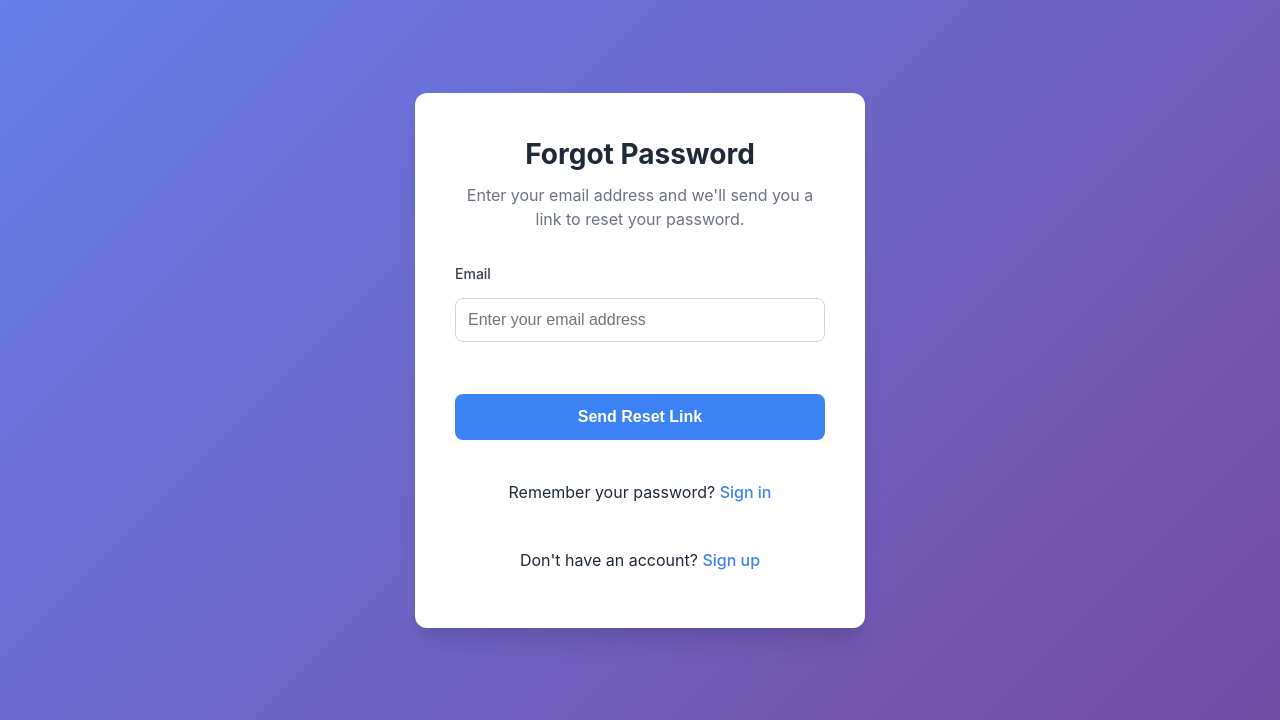
ForgotPassword Component › validates required email field
Click the button "Send Reset Link" at (640,416), box [455,394,825,440]
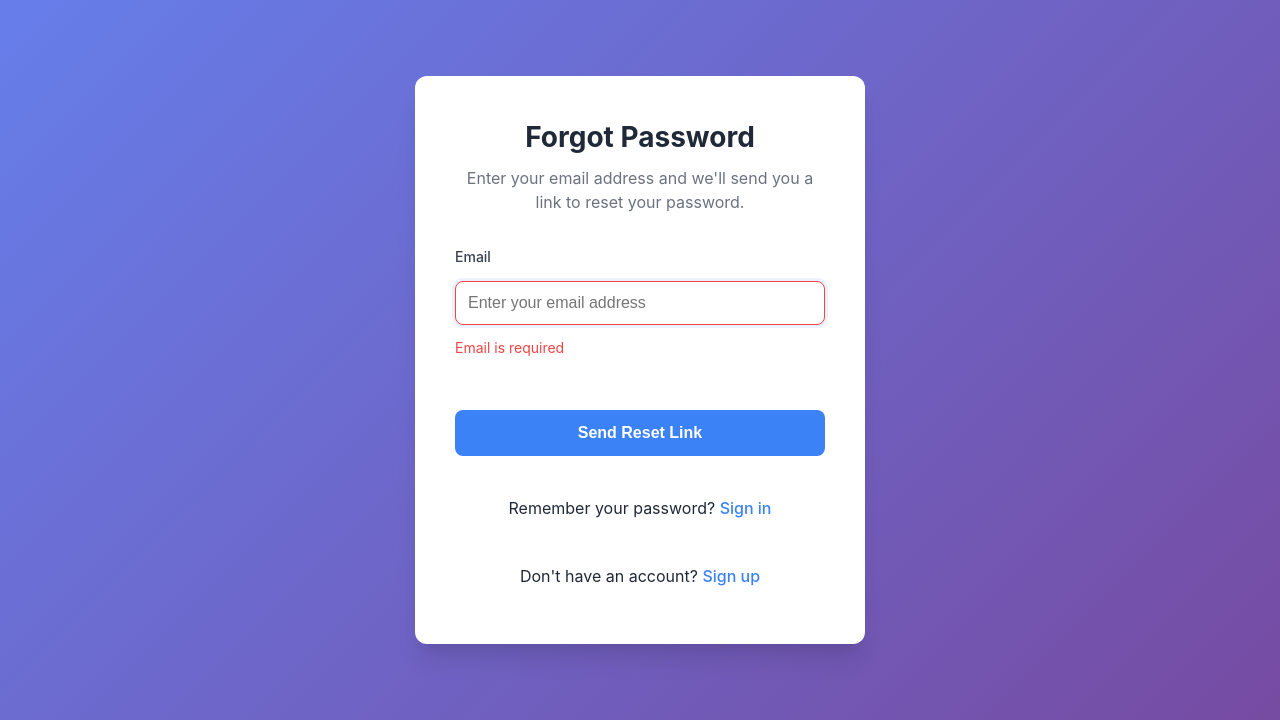
Now the text "Email is required" is shown, box [455,339,564,356]
